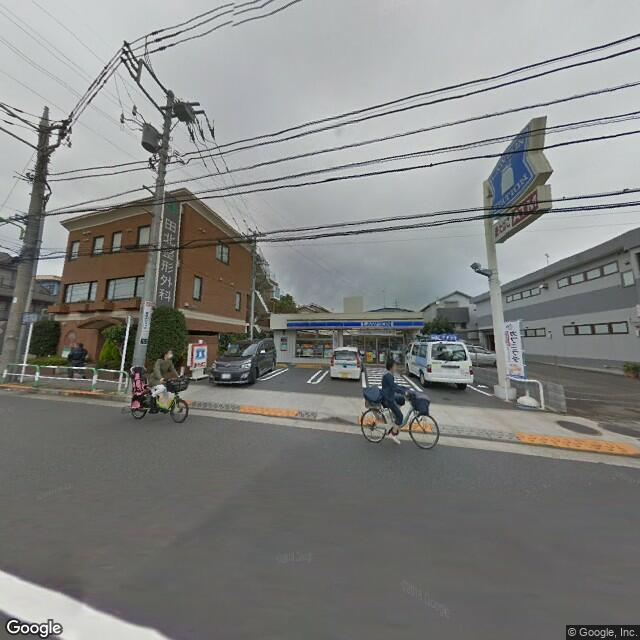lawson: (487, 115, 544, 219), (282, 312, 427, 334)
